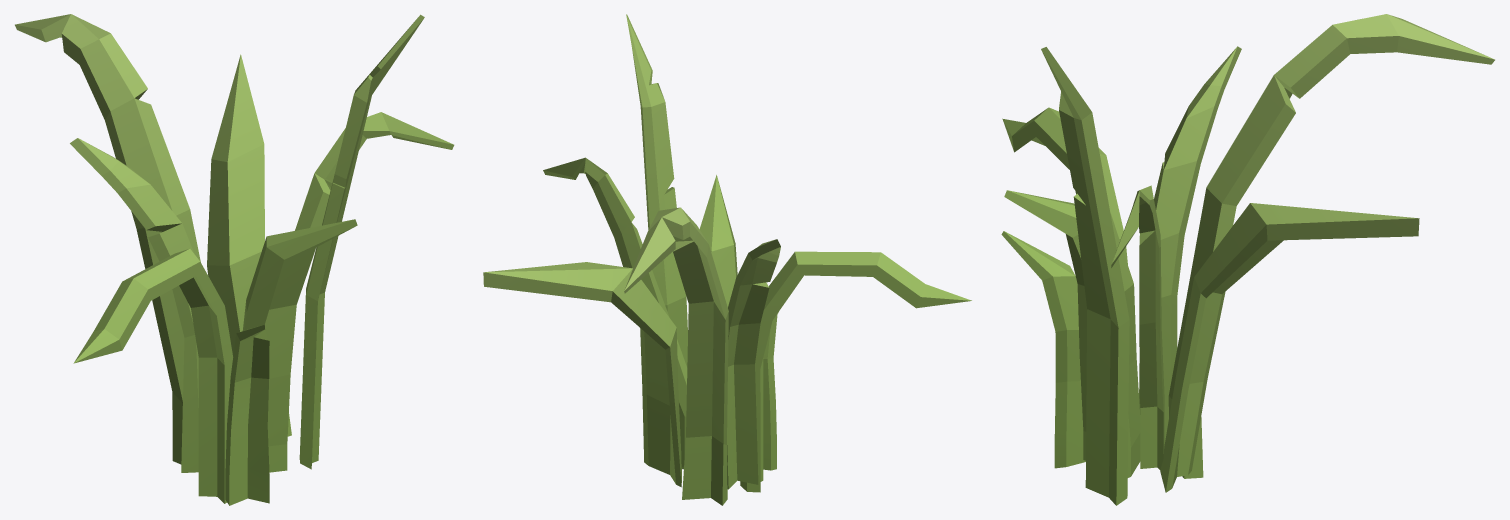
File: Grass.obj
3 renders of one model, left to right at view 1: azimuth 30°, elevation 25°; view 2: azimuth 150°, elevation 25°; view 3: azimuth 270°, elevation 25°, orthographic. The views are drawn at different scales.
Visible parts, largest first — view 1: PP_Grass_15; view 2: PP_Grass_15; view 3: PP_Grass_15.
Part boxes in pixels (x1=…): PP_Grass_15: x1=15, y1=14, x2=454, y2=505; PP_Grass_15: x1=483, y1=14, x2=971, y2=505; PP_Grass_15: x1=1001, y1=14, x2=1494, y2=505.
Bounding box in the file's own units: 0.4087 × 0.4191 × 0.3694.
1 material, 1 textured.
